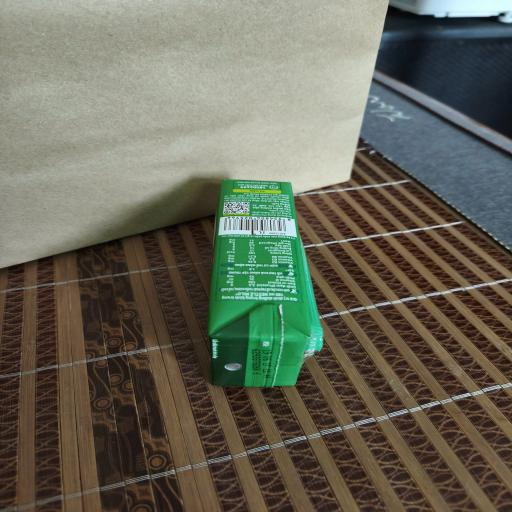milo: (206, 179, 324, 388)
